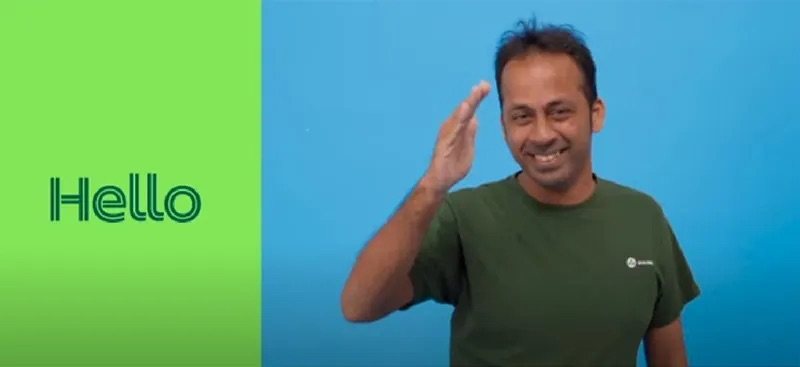hello: (429, 79, 524, 197)
